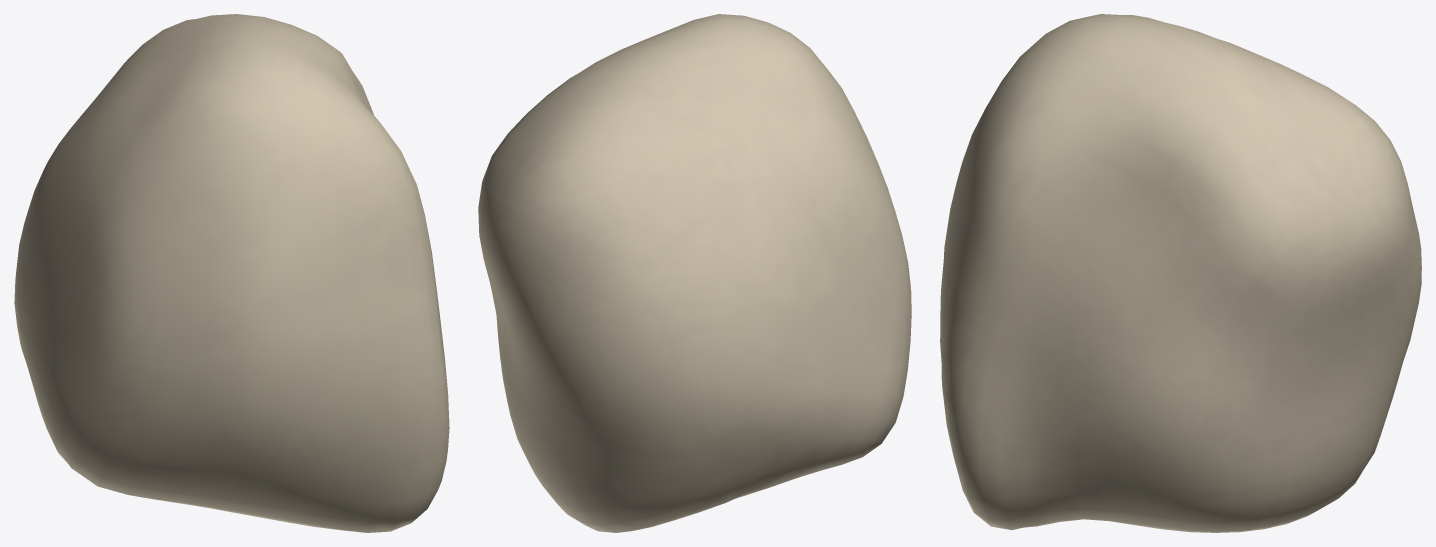
File: R carpale tertium.fbx
The picture shows the model from 3 angles, left to right: view 1: azimuth 30°, elevation 25°; view 2: azimuth 150°, elevation 25°; view 3: azimuth 270°, elevation 25°; orthographic projection. The views are drawn at different scales.
Visible parts, largest first — view 1: R carpale tertium; view 2: R carpale tertium; view 3: R carpale tertium.
Part boxes in pixels (x1,y1,x2,y2): R carpale tertium: [14, 14, 449, 532]; R carpale tertium: [478, 14, 911, 532]; R carpale tertium: [940, 14, 1421, 532].
Size of the model in its own units: 1.74 by 2.05 by 1.92.
